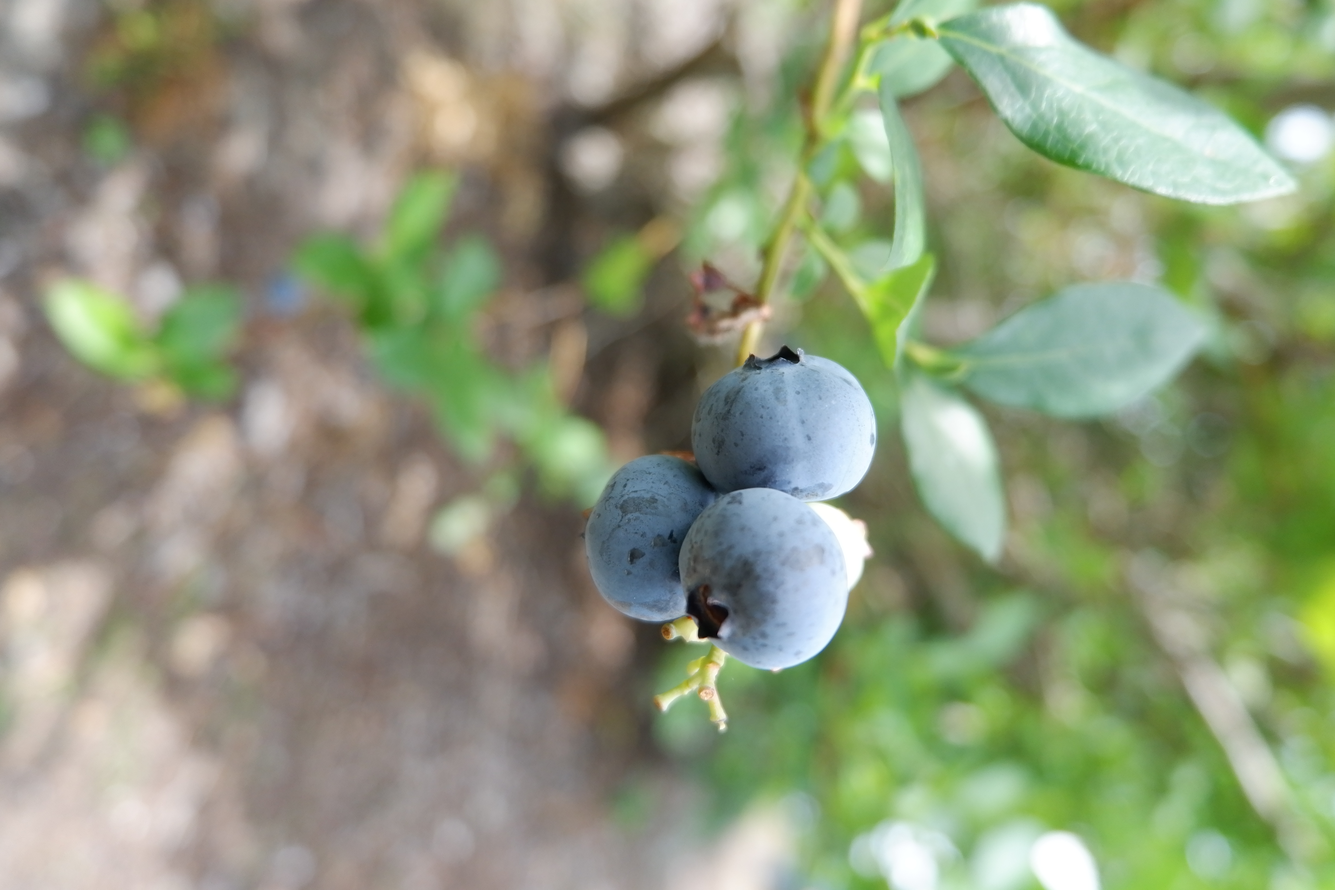Immature: (810, 502, 868, 587)
Mature: (682, 491, 846, 665), (695, 349, 876, 500), (587, 460, 716, 617)
